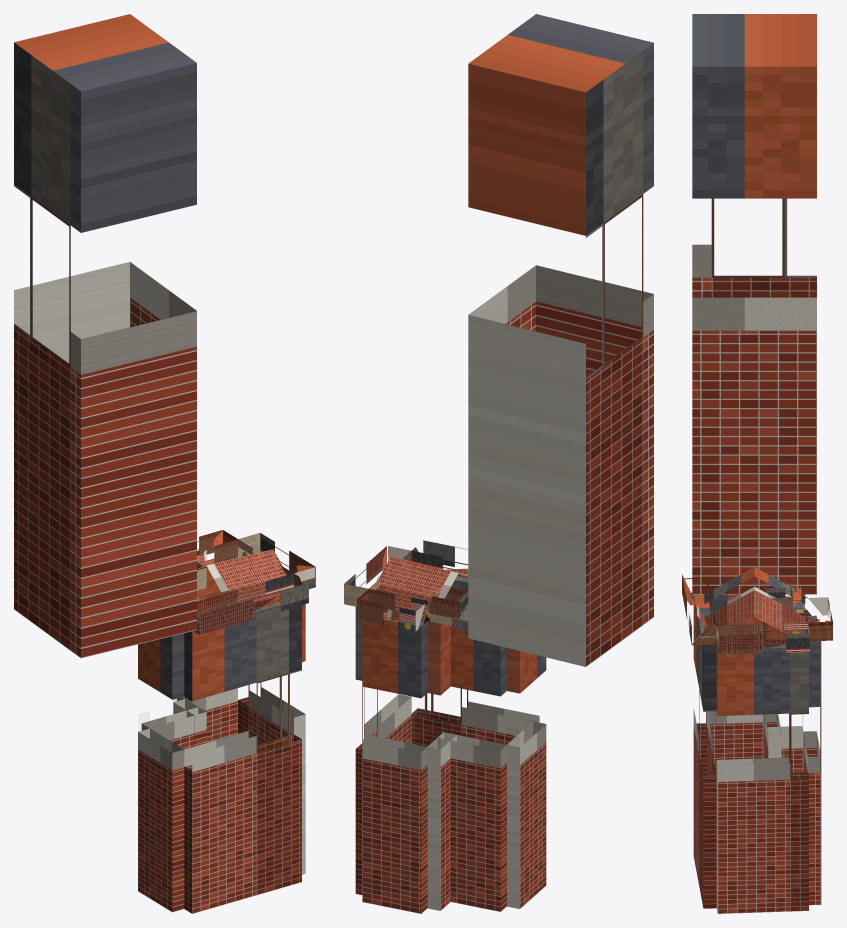
3 renders of one model, left to right at view 1: azimuth 30°, elevation 25°; view 2: azimuth 150°, elevation 25°; view 3: azimuth 270°, elevation 25°, orthographic. The views are drawn at different scales.
Parts seen in each view (by area): view 1: 1106964394__chimney_0_xb, 1106964394__wall_0_xb, 1106964394__wall_1_xb, 1106964394__wall_5_xb, 1106964394__cornice_0, 1106964394_roof_-1_xb, 1106964394__wall_4_xb, 1106964394__cornice_5, 1106964394__wall_2_xb, 1106964394__cornice_4, 1106964394__wall_3_xb; view 2: 1106964394__chimney_0_xb, 1106964394__wall_4_xb, 1106964394__wall_2_xb, 1106964394__wall_1_xb, 1106964394__wall_3_xb, 1106964394__wall_0_xb, 1106964394__wall_5_xb, 1106964394_roof_1_xb, 1106964394__cornice_4, 1106964394__cornice_5, 1106964394__cornice_0, 1106964394__cornice_3; view 3: 1106964394__chimney_0_xb, 1106964394__wall_5_xb, 1106964394__wall_0_xb, 1106964394__wall_4_xb, 1106964394__wall_1_xb, 1106964394__cornice_5, 1106964394_roof_-1_xb, 1106964394_roof_1_xb, 1106964394__wall_3_xb, 1106964394__wall_2_xb, 1106964394__cornice_0, 1106964394__cornice_4 (+1 smaller).
Part boxes in pixels (bbox=[...]): 1106964394__chimney_0_xb: bbox=[14, 14, 196, 658]; 1106964394__wall_0_xb: bbox=[184, 603, 301, 913]; 1106964394__wall_1_xb: bbox=[138, 633, 184, 912]; 1106964394__wall_5_xb: bbox=[238, 604, 305, 874]; 1106964394__cornice_0: bbox=[193, 573, 308, 634]; 1106964394_roof_-1_xb: bbox=[197, 549, 293, 623]; 1106964394__wall_4_xb: bbox=[177, 559, 237, 742]; 1106964394__cornice_5: bbox=[238, 533, 315, 588]; 1106964394__wall_2_xb: bbox=[141, 707, 198, 749]; 1106964394__cornice_4: bbox=[197, 530, 237, 564]; 1106964394__wall_3_xb: bbox=[173, 588, 206, 746]; 1106964394__chimney_0_xb: bbox=[468, 14, 653, 666]; 1106964394__wall_4_xb: bbox=[362, 612, 427, 913]; 1106964394__wall_2_xb: bbox=[437, 621, 506, 911]; 1106964394__wall_1_xb: bbox=[507, 648, 546, 908]; 1106964394__wall_3_xb: bbox=[427, 620, 456, 910]; 1106964394__wall_0_xb: bbox=[411, 576, 539, 746]; 1106964394__wall_5_xb: bbox=[355, 606, 411, 894]; 1106964394_roof_1_xb: bbox=[376, 556, 468, 631]; 1106964394__cornice_4: bbox=[357, 589, 427, 630]; 1106964394__cornice_5: bbox=[344, 546, 411, 606]; 1106964394__cornice_0: bbox=[411, 540, 468, 581]; 1106964394__cornice_3: bbox=[427, 587, 468, 625]; 1106964394__chimney_0_xb: bbox=[692, 14, 816, 594]; 1106964394__wall_5_xb: bbox=[716, 644, 808, 913]; 1106964394__wall_0_xb: bbox=[693, 594, 716, 908]; 1106964394__wall_4_xb: bbox=[803, 615, 821, 905]; 1106964394__wall_1_xb: bbox=[706, 594, 763, 773]; 1106964394__cornice_5: bbox=[716, 622, 809, 654]; 1106964394_roof_-1_xb: bbox=[704, 567, 754, 634]; 1106964394_roof_1_xb: bbox=[754, 567, 805, 633]; 1106964394__wall_3_xb: bbox=[767, 611, 803, 772]; 1106964394__wall_2_xb: bbox=[763, 622, 781, 758]; 1106964394__cornice_0: bbox=[682, 574, 716, 645]; 1106964394__cornice_4: bbox=[803, 597, 832, 641].
Size of the model in its own units: 0.3218 by 1.05 by 0.1812.
Materials: 1 (1 with a texture image).
